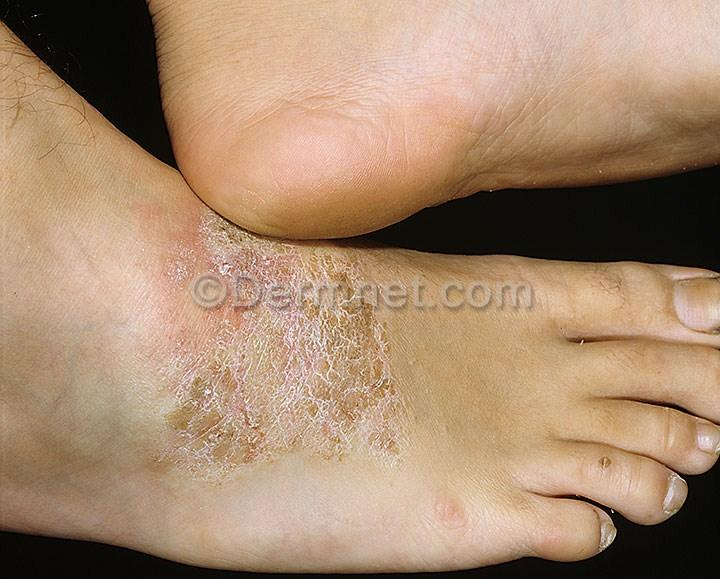Eczema: (272, 373, 430, 481), (191, 310, 401, 385), (152, 378, 264, 482), (187, 197, 290, 270), (290, 235, 388, 281), (429, 488, 472, 533)
